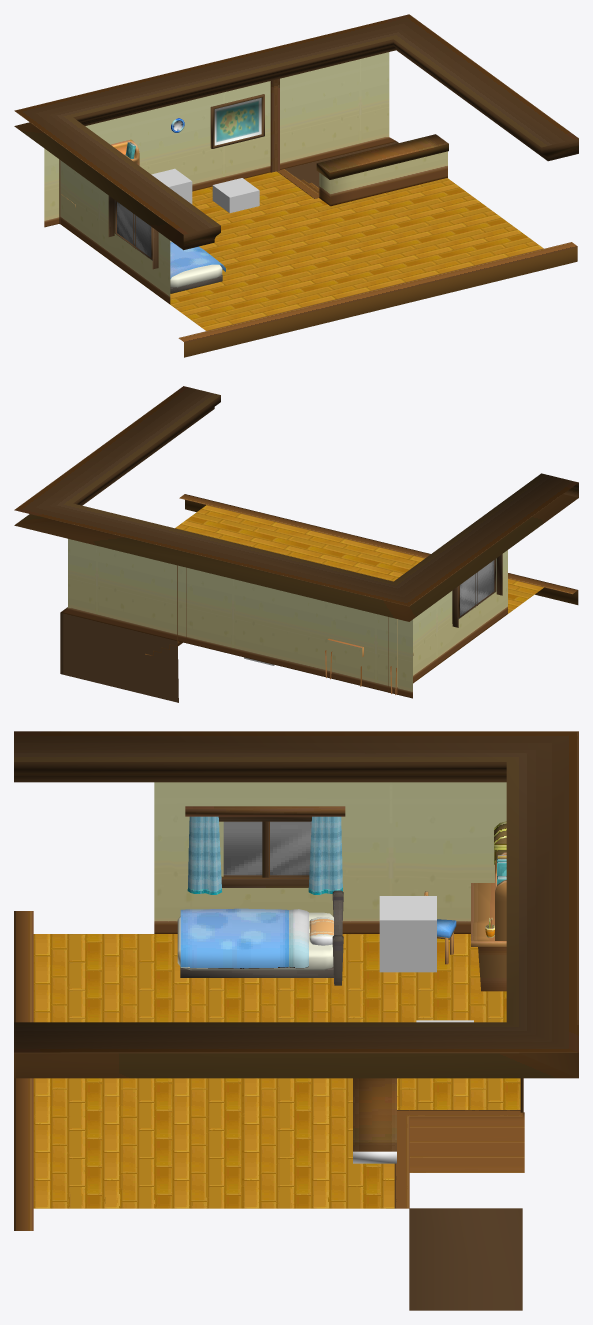
Rendered from house.glb.
The picture shows the model from 3 angles, top to bottom: view 1: azimuth 30°, elevation 25°; view 2: azimuth 150°, elevation 25°; view 3: azimuth 270°, elevation 25°; orthographic projection. The views are drawn at different scales.
Visible parts, largest first — view 1: Brendans_Room, Cube; view 2: Brendans_Room; view 3: Brendans_Room, Cube.
Boxes of the visible parts, x1,y1,x2,y2 form: Brendans_Room: (14,14,578,357); Cube: (151,168,192,204); Brendans_Room: (14,386,578,702); Brendans_Room: (14,731,578,1310); Cube: (379,896,436,972).
Size of the model in its own units: 26.5 by 10.83 by 19.69.
16 materials, 14 textured.
